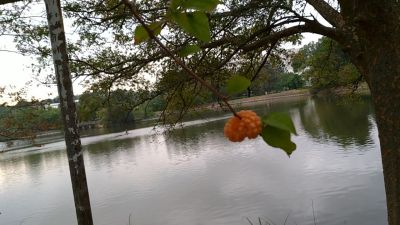eggs: (223, 109, 264, 143)
